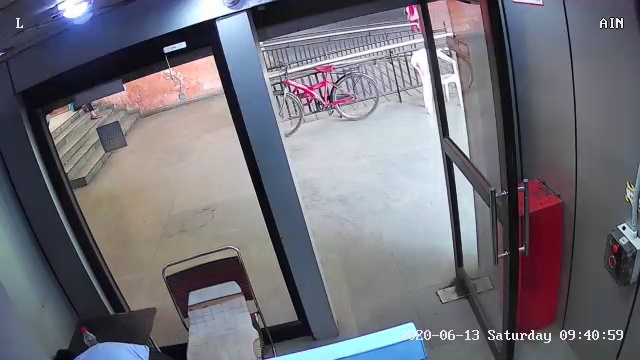open: (391, 5, 555, 356)
